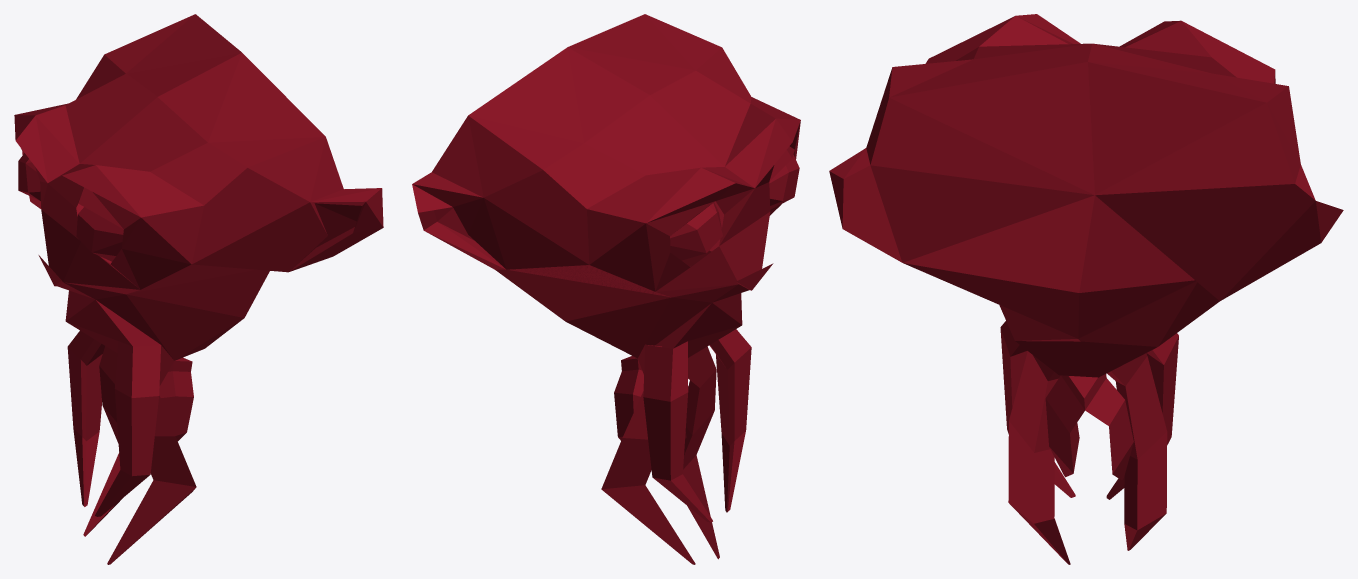
The model's file is cathulu.fbx.
The picture shows the model from 3 angles, left to right: view 1: azimuth 30°, elevation 25°; view 2: azimuth 150°, elevation 25°; view 3: azimuth 270°, elevation 25°; orthographic projection. The views are drawn at different scales.
Visible parts, largest first — view 1: SHIP.012; view 2: SHIP.012; view 3: SHIP.012.
Boxes of the visible parts, x1,y1,x2,y2 form: SHIP.012: (14,14,383,564); SHIP.012: (412,14,800,564); SHIP.012: (829,14,1343,564).
Bounding box in the file's own units: 55.61 × 96.21 × 76.28.
